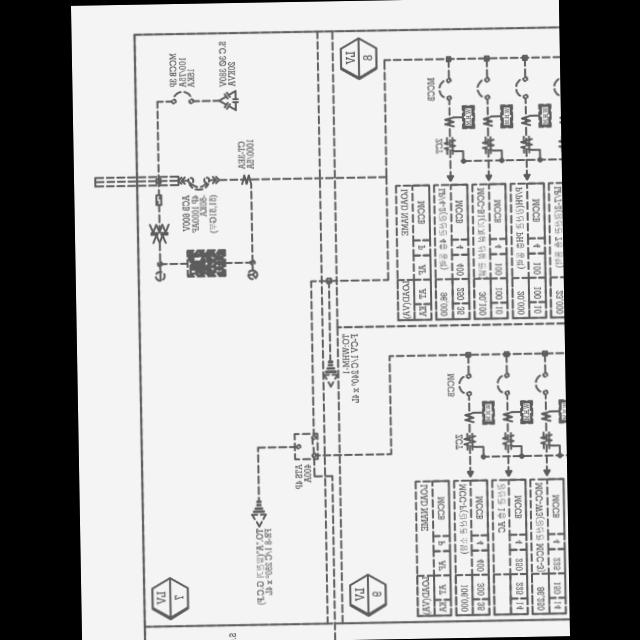ACB: (186, 175, 211, 189)
AS: (246, 268, 258, 278)
CT: (464, 410, 475, 422), (240, 174, 252, 184), (444, 115, 454, 126), (482, 115, 493, 125), (520, 113, 530, 124), (502, 409, 512, 420), (542, 410, 552, 420)
MCCB: (438, 77, 452, 99), (496, 372, 510, 394), (170, 89, 193, 102), (458, 374, 472, 394), (476, 77, 489, 97), (516, 76, 528, 97), (536, 372, 548, 392)
SC: (220, 90, 238, 110)
ZCT: (520, 135, 534, 152), (445, 136, 457, 153), (483, 136, 495, 152), (464, 432, 476, 448), (540, 432, 552, 446), (504, 432, 514, 447)
